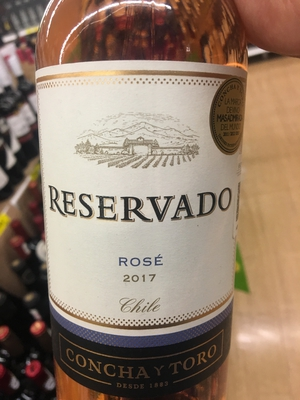reservado rose: (34, 4, 251, 400)
